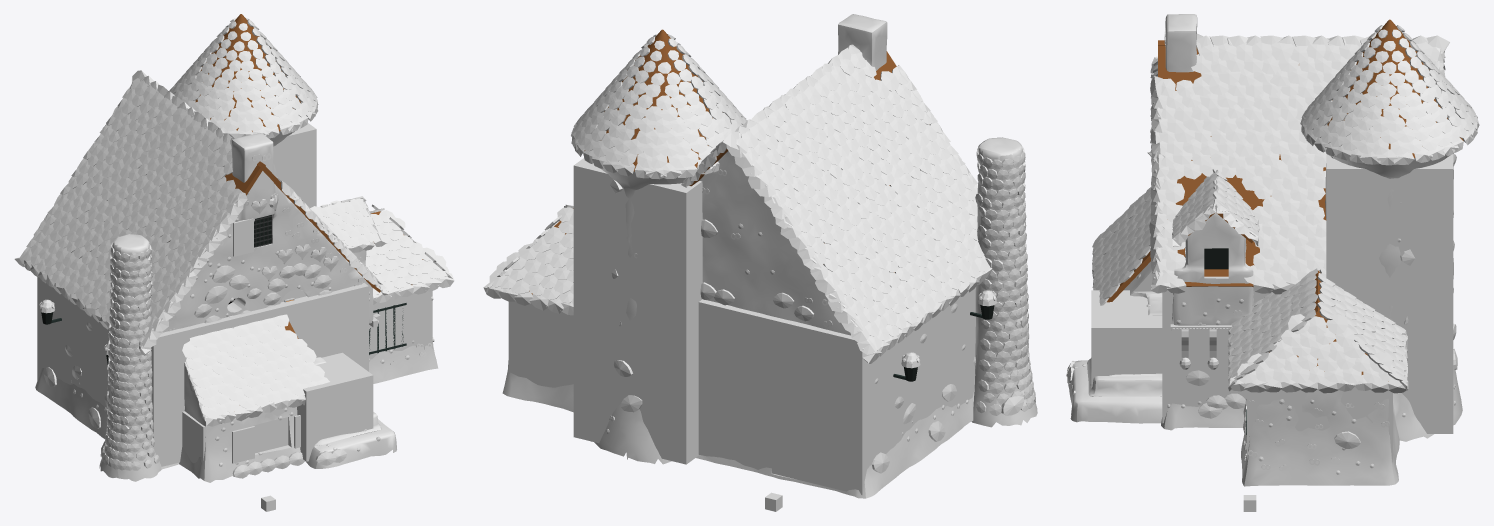
The model's file is AR_HansGrietje_huis.fbx.
The picture shows the model from 3 angles, left to right: view 1: azimuth 30°, elevation 25°; view 2: azimuth 150°, elevation 25°; view 3: azimuth 270°, elevation 25°; orthographic projection. The views are drawn at different scales.
Parts seen in each view (by area): view 1: static__TEX_pannenkoek_0, static__TEX_stuc_voor_0, COLL_0, static__TEX_pannenkoek_2, static__TEX_pannenkoek_3, static__TEX_snoep_2, static__TEX_pannenkoek_1, static__TEX_snoep_0, COLL_3, static__TEX_stuc_noord_0, COLL_1, COLL_2 (+5 smaller); view 2: static__TEX_pannenkoek_0, COLL_0, COLL_2, static__TEX_stuc_achter_0, static__TEX_pannenkoek_3, static__TEX_pannenkoek_1, static__TEX_snoep_2, static__TEX_stuc_noord_0, static__TEX_pannenkoek_2, COLL_1, static__TEX_snoep_1, static__TEX_pannenkoek_4 (+2 smaller); view 3: static__TEX_pannenkoek_1, static__TEX_stuc_zuid_0, COLL_2, static__TEX_pannenkoek_2, static__TEX_pannenkoek_3, COLL_3, COLL_0, static__MAT_dakbasis_0, static__TEX_stuc_voor_0, COLL_1, static__TEX_snoep_1, static__TEX_pannenkoek_4 (+4 smaller).
Boxes of the visible parts, box(x1,y1,x2,y2) form: static__TEX_pannenkoek_0: box(14, 116, 237, 355); static__TEX_stuc_voor_0: box(113, 131, 438, 482); COLL_0: box(37, 277, 368, 466); static__TEX_pannenkoek_2: box(182, 204, 454, 423); static__TEX_pannenkoek_3: box(169, 39, 381, 246); static__TEX_snoep_2: box(101, 218, 434, 470); static__TEX_pannenkoek_1: box(111, 70, 387, 426); static__TEX_snoep_0: box(168, 131, 380, 478); COLL_3: box(297, 352, 373, 461); static__TEX_stuc_noord_0: box(35, 140, 320, 480); COLL_1: box(369, 291, 432, 359); COLL_2: box(273, 123, 316, 207); static__TEX_pannenkoek_0: box(754, 89, 992, 363); COLL_0: box(698, 287, 975, 495); COLL_2: box(573, 158, 702, 464); static__TEX_stuc_achter_0: box(502, 24, 1003, 498); static__TEX_pannenkoek_3: box(571, 59, 746, 179); static__TEX_pannenkoek_1: box(681, 44, 916, 189); static__TEX_snoep_2: box(973, 147, 1035, 415); static__TEX_stuc_noord_0: box(662, 22, 1037, 498); static__TEX_pannenkoek_2: box(483, 204, 573, 315); COLL_1: box(508, 301, 573, 387); static__TEX_snoep_1: box(606, 179, 1024, 473); static__TEX_pannenkoek_4: box(627, 34, 699, 85); static__TEX_pannenkoek_1: box(1092, 35, 1449, 294); static__TEX_stuc_zuid_0: box(1077, 31, 1446, 486); COLL_2: box(1326, 154, 1453, 433); static__TEX_pannenkoek_2: box(1092, 186, 1408, 393); static__TEX_pannenkoek_3: box(1172, 54, 1479, 245); COLL_3: box(1091, 290, 1162, 388); COLL_0: box(1162, 290, 1272, 423); static__MAT_dakbasis_0: box(1107, 19, 1463, 381); static__TEX_stuc_voor_0: box(1068, 14, 1352, 485); COLL_1: box(1247, 387, 1392, 462); static__TEX_snoep_1: box(1181, 154, 1457, 469); static__TEX_pannenkoek_4: box(1352, 25, 1426, 72).
Size of the model in its own units: 7.72 by 8.82 by 6.5.
